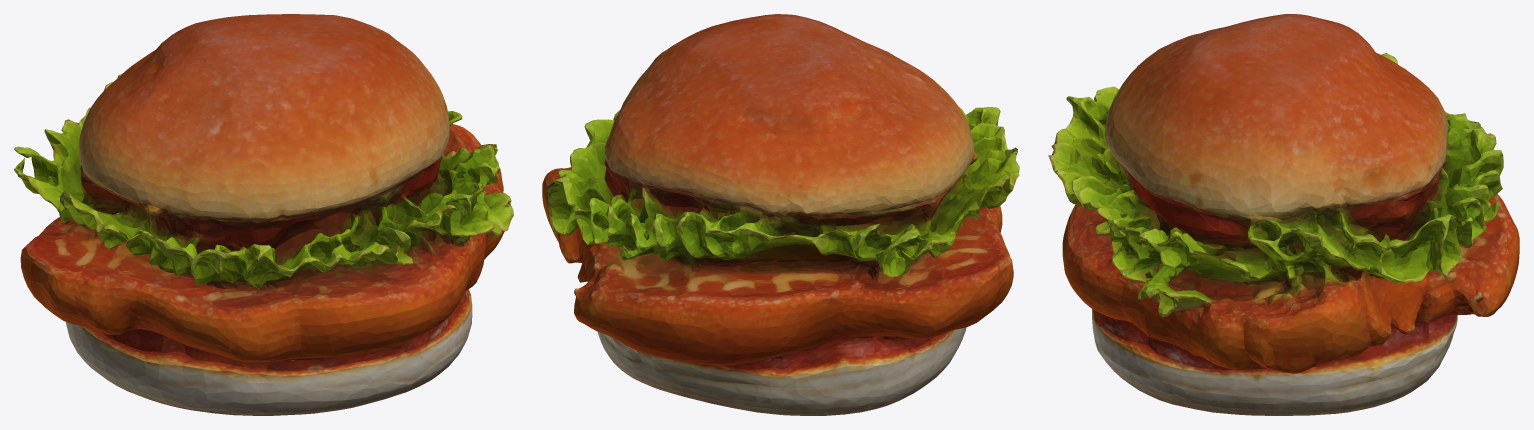
Rendered from burger1.glb.
3 views of the same model, side by side, from view 1: azimuth 30°, elevation 25°; view 2: azimuth 150°, elevation 25°; view 3: azimuth 270°, elevation 25° (orthographic). The views are drawn at different scales.
Visible parts, largest first — view 1: world; view 2: world; view 3: world.
Boxes of the visible parts, <box> form: world: <box>14,14,513,415</box>; world: <box>542,14,1019,415</box>; world: <box>1048,14,1519,415</box>.
Bounding box in the file's own units: 0.9971 × 0.6686 × 0.9125.
1 material, 1 textured.
